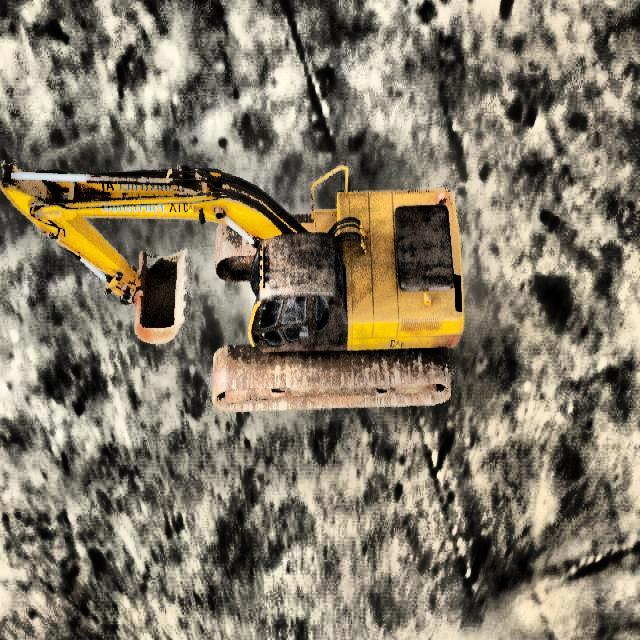excavator: (0, 160, 465, 412)
